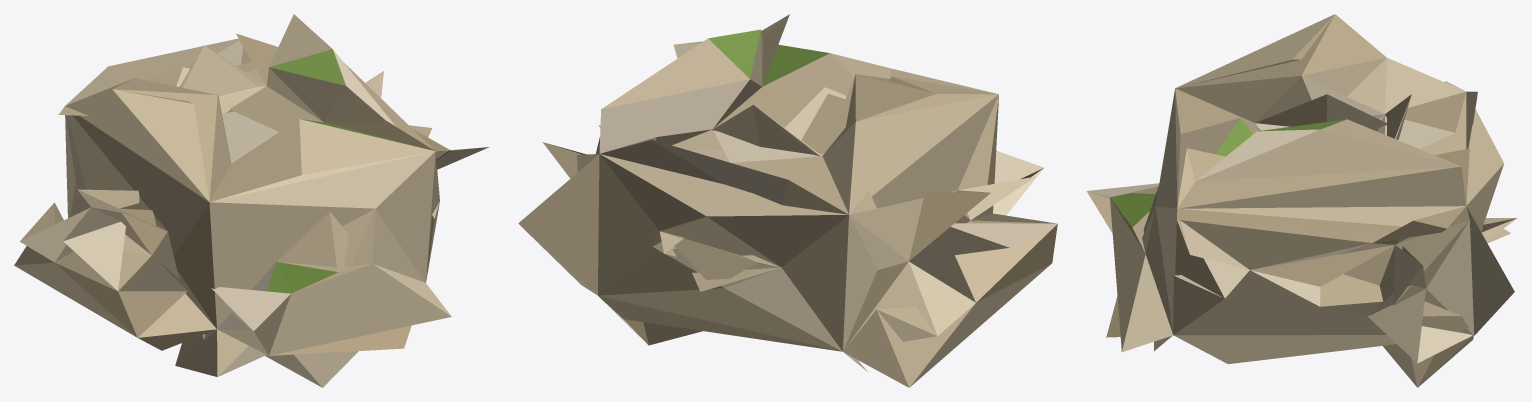
Rendered from ChunkLimestone_d.fbx.
3 renders of one model, left to right at view 1: azimuth 30°, elevation 25°; view 2: azimuth 150°, elevation 25°; view 3: azimuth 270°, elevation 25°, orthographic. The views are drawn at different scales.
Visible parts, largest first — view 1: ChunkLimestone_d; view 2: ChunkLimestone_d; view 3: ChunkLimestone_d.
Part boxes in pixels (x1,y1,x2,y2): ChunkLimestone_d: (14,14,489,387); ChunkLimestone_d: (518,14,1057,387); ChunkLimestone_d: (1086,14,1516,387).
Size of what is drawn, in the model's own units: 0.4789 by 0.326 by 0.463.
